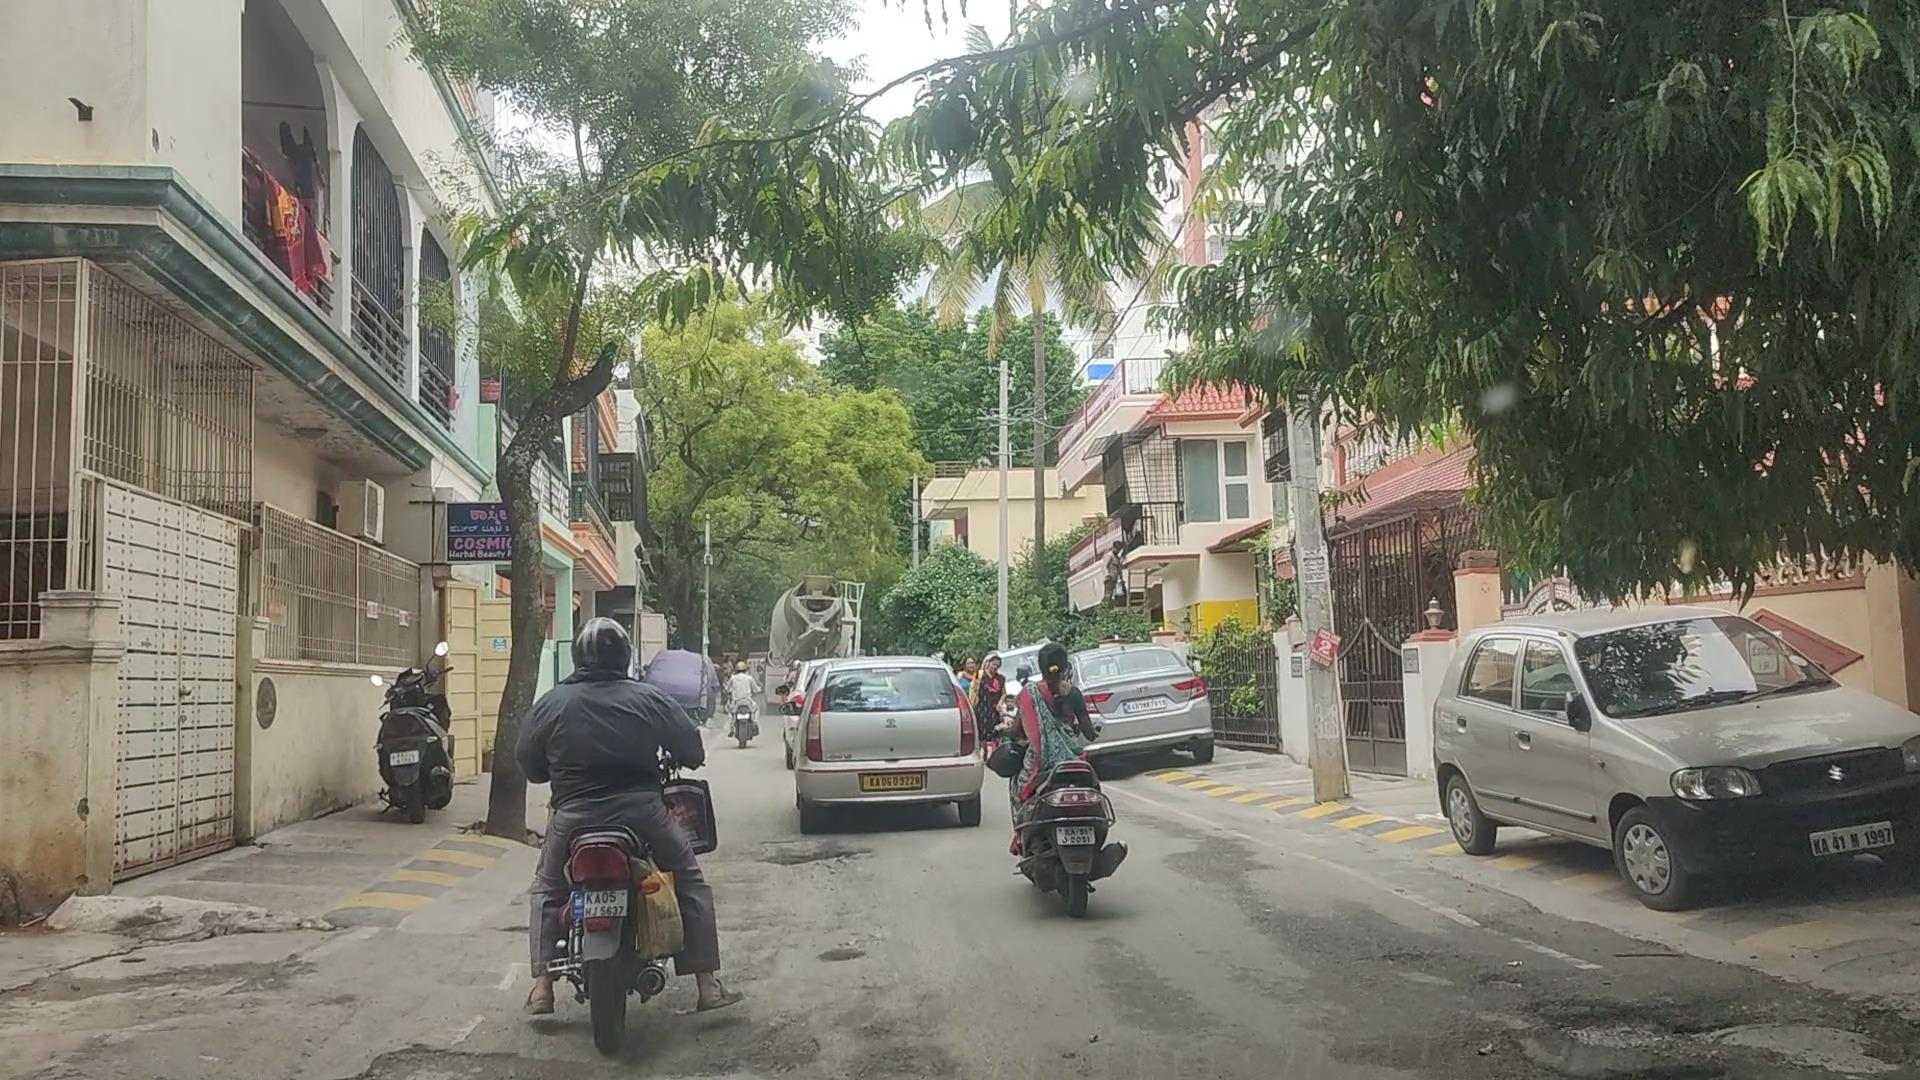LMV: (538, 626, 686, 1056), (798, 658, 973, 816), (1018, 641, 1116, 910)
RoadDamages: (1485, 944, 1899, 1080), (808, 898, 876, 1001)
